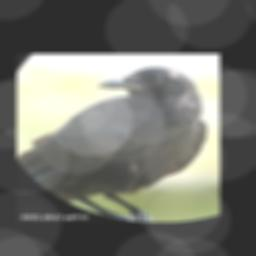Crow: (18, 66, 209, 222)
